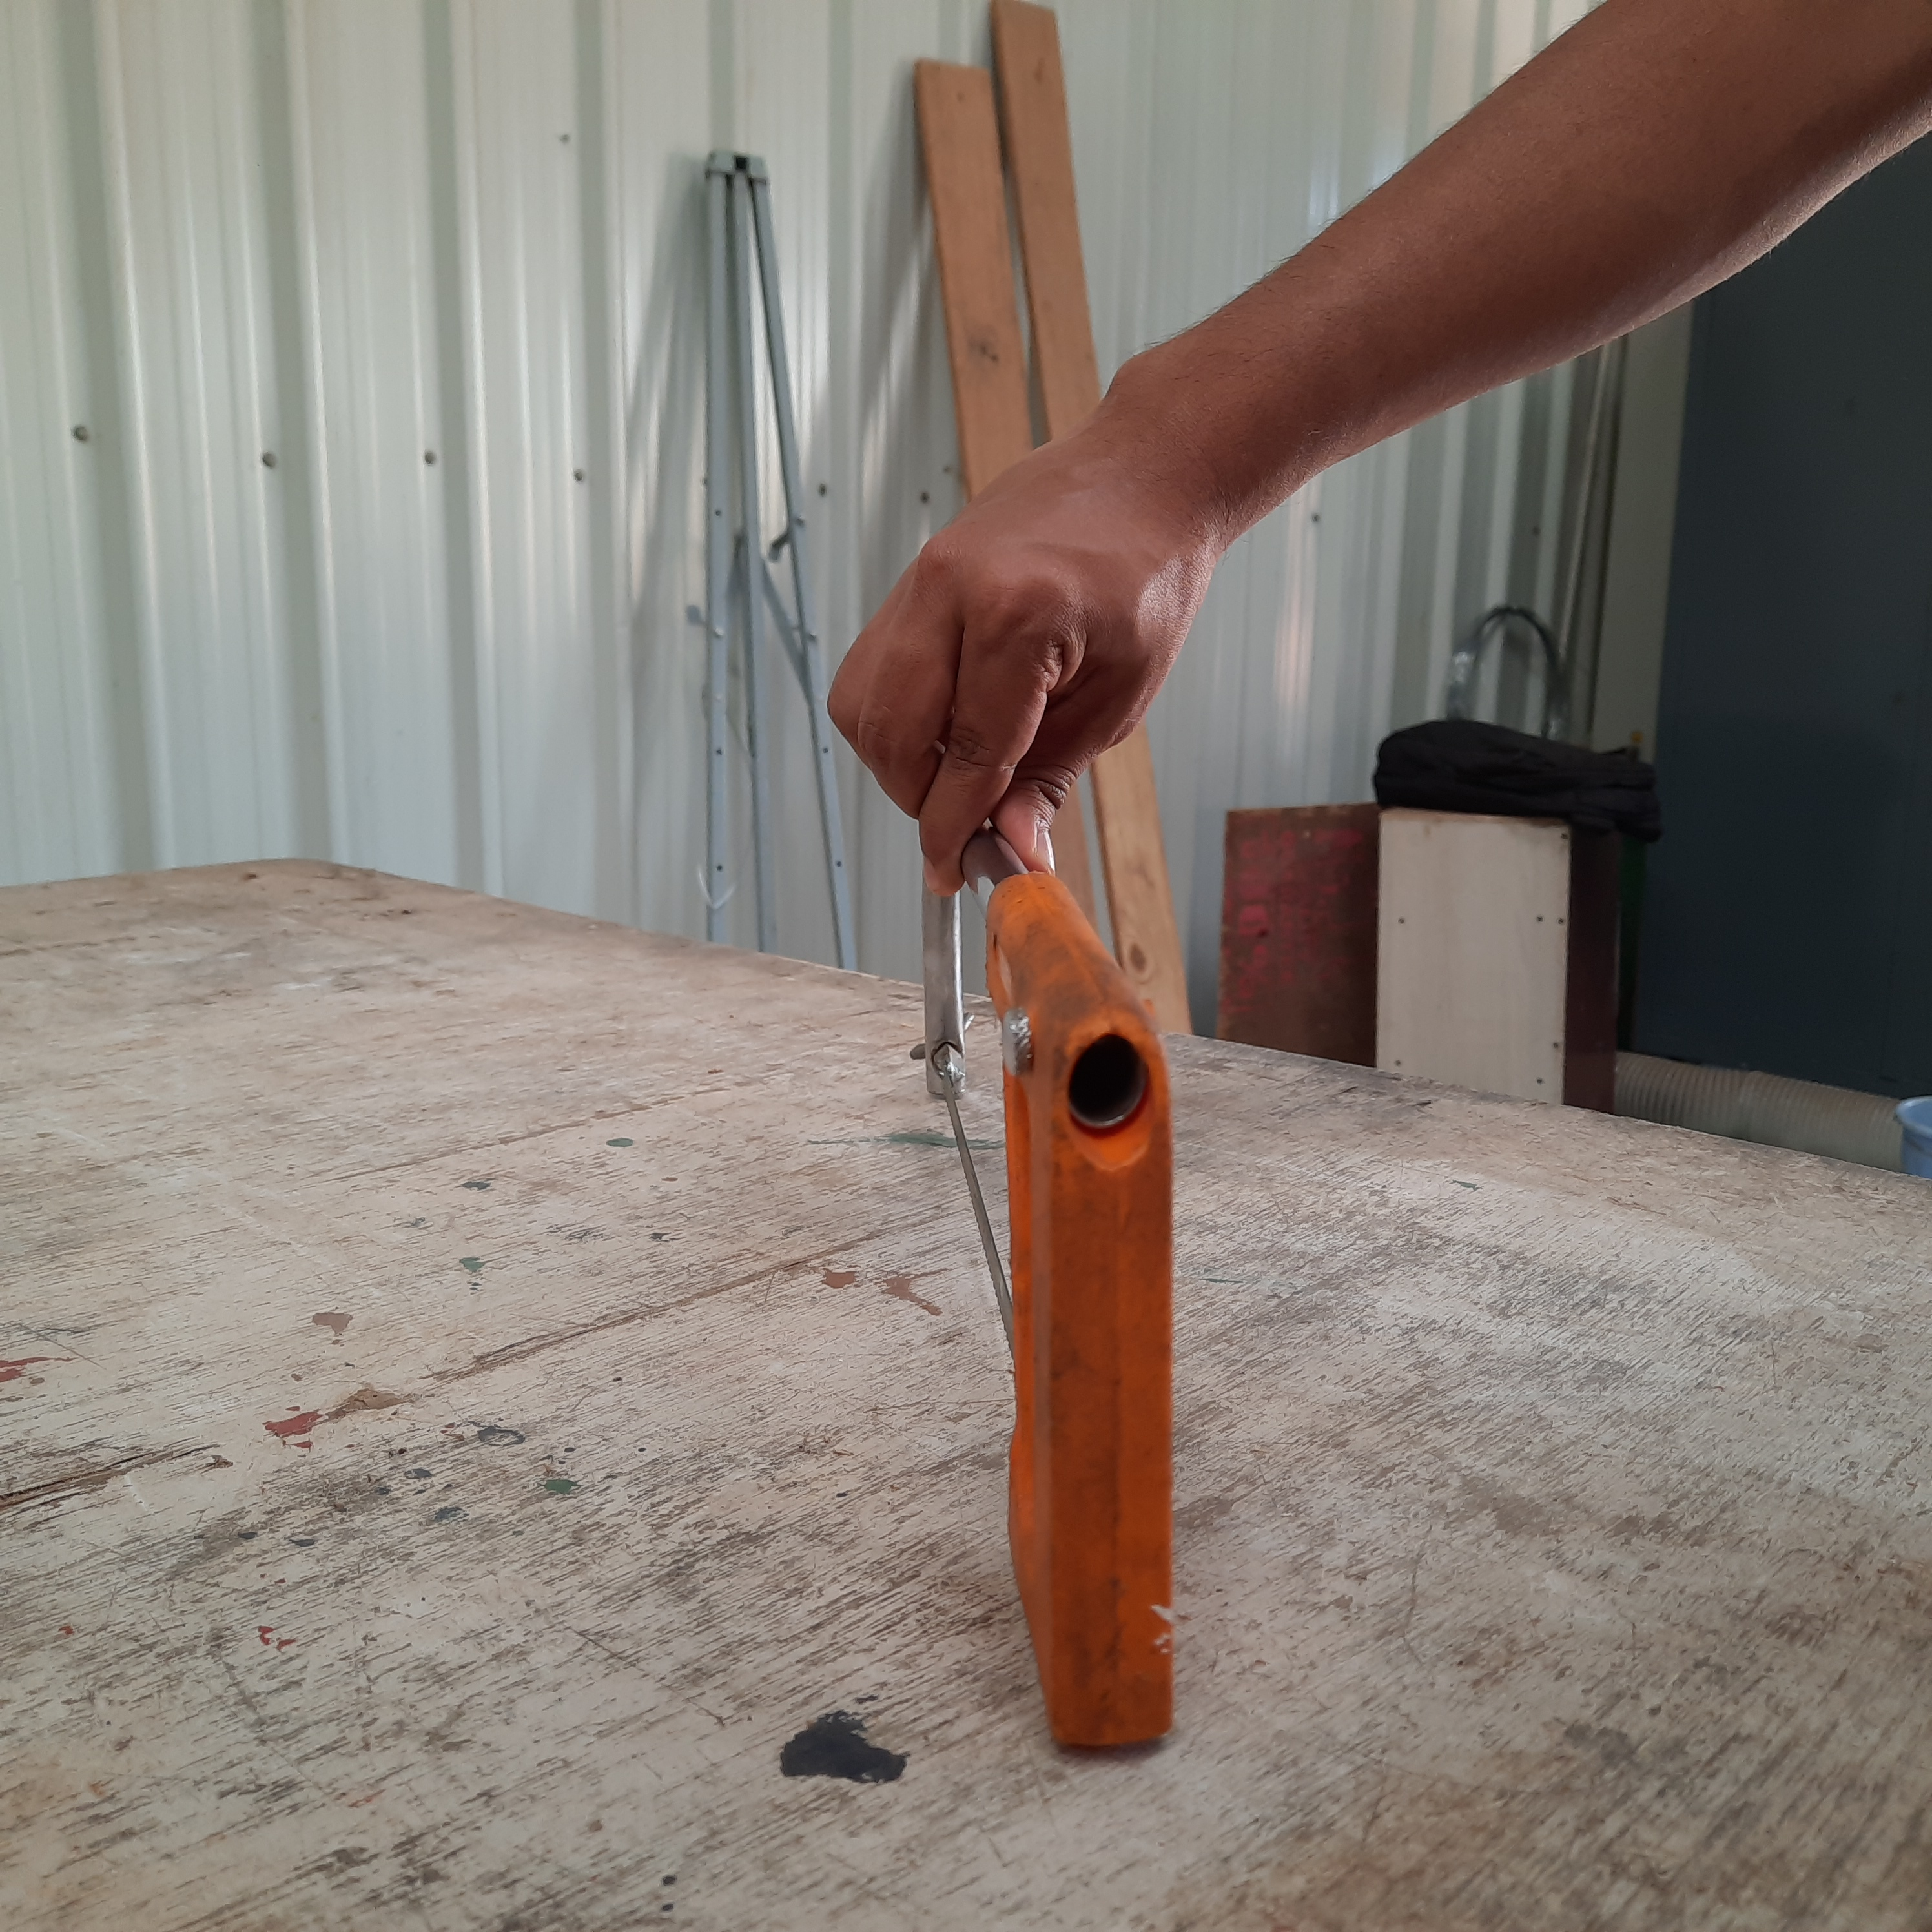Hexaframe: (860, 787, 1283, 1782)
